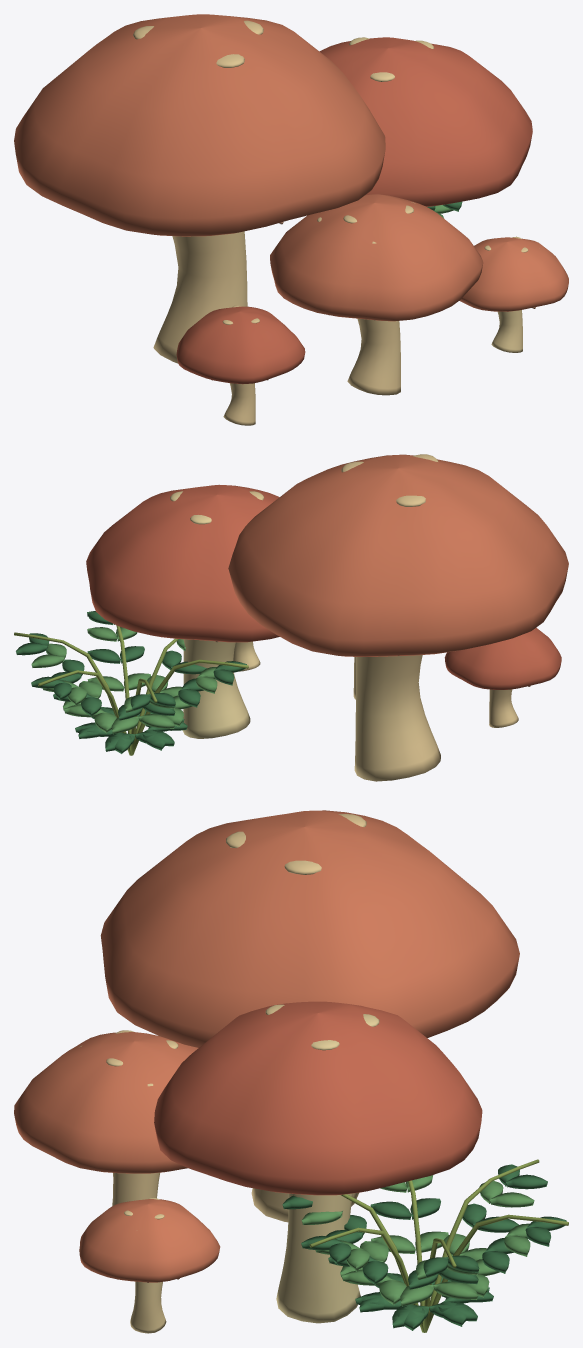
Rendered from mushrooms.glb.
3 renders of one model, top to bottom at view 1: azimuth 30°, elevation 25°; view 2: azimuth 150°, elevation 25°; view 3: azimuth 270°, elevation 25°, orthographic. The views are drawn at different scales.
Parts seen in each view (by area): view 1: mushrooms_PaintedSculpture; view 2: mushrooms_PaintedSculpture; view 3: mushrooms_PaintedSculpture.
Boxes of the visible parts, x1,y1,x2,y2 form: mushrooms_PaintedSculpture: [14, 14, 568, 425]; mushrooms_PaintedSculpture: [14, 454, 568, 781]; mushrooms_PaintedSculpture: [14, 810, 568, 1333].
Bounding box in the file's own units: 2.01 × 1.24 × 1.67.
